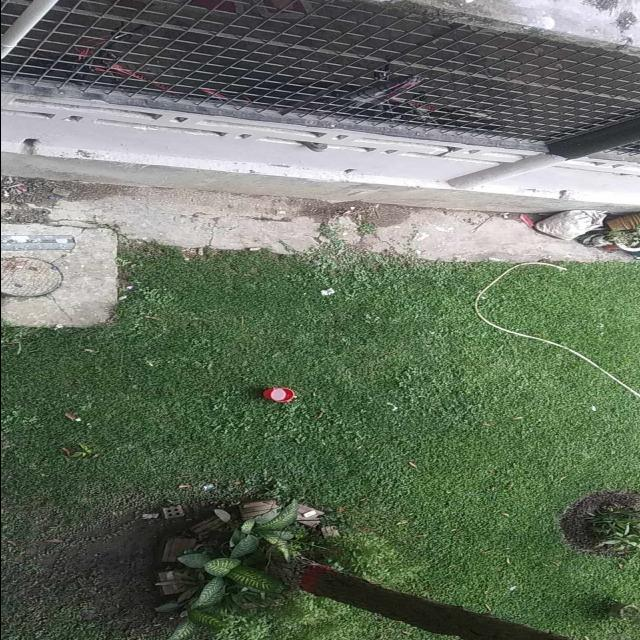Breeding Place: (112, 488, 352, 638), (516, 208, 640, 262), (586, 592, 640, 634), (248, 378, 304, 408)
